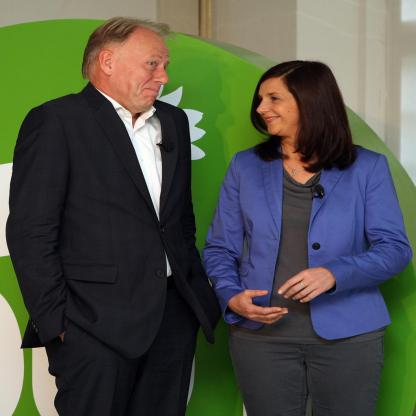face: (116, 37, 171, 114), (258, 81, 300, 137)
